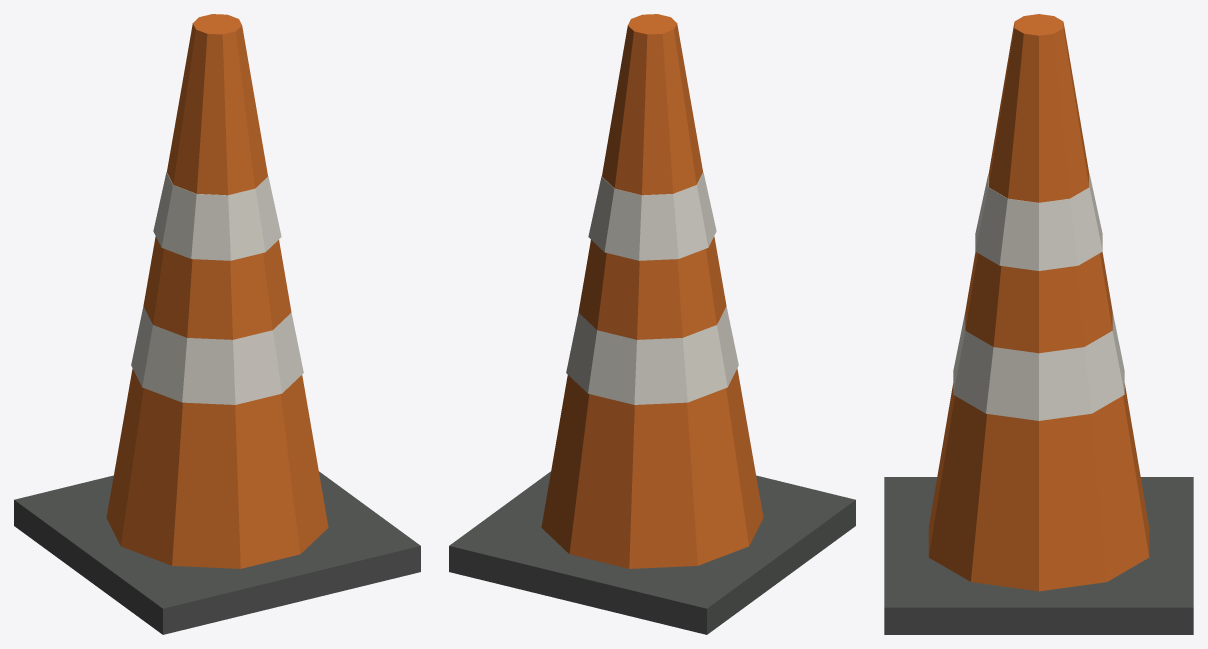
The model's file is traffic_cone.glb.
3 views of the same model, side by side, from view 1: azimuth 30°, elevation 25°; view 2: azimuth 150°, elevation 25°; view 3: azimuth 270°, elevation 25° (orthographic). The views are drawn at different scales.
Parts seen in each view (by area): view 1: traffic_cone; view 2: traffic_cone; view 3: traffic_cone.
Part boxes in pixels (x1=…): traffic_cone: x1=14, y1=14, x2=420, y2=634; traffic_cone: x1=449, y1=14, x2=855, y2=634; traffic_cone: x1=884, y1=14, x2=1193, y2=634.
Size of what is drawn, in the model's own units: 0.36 by 0.7 by 0.36.
2 materials, 2 textured.
